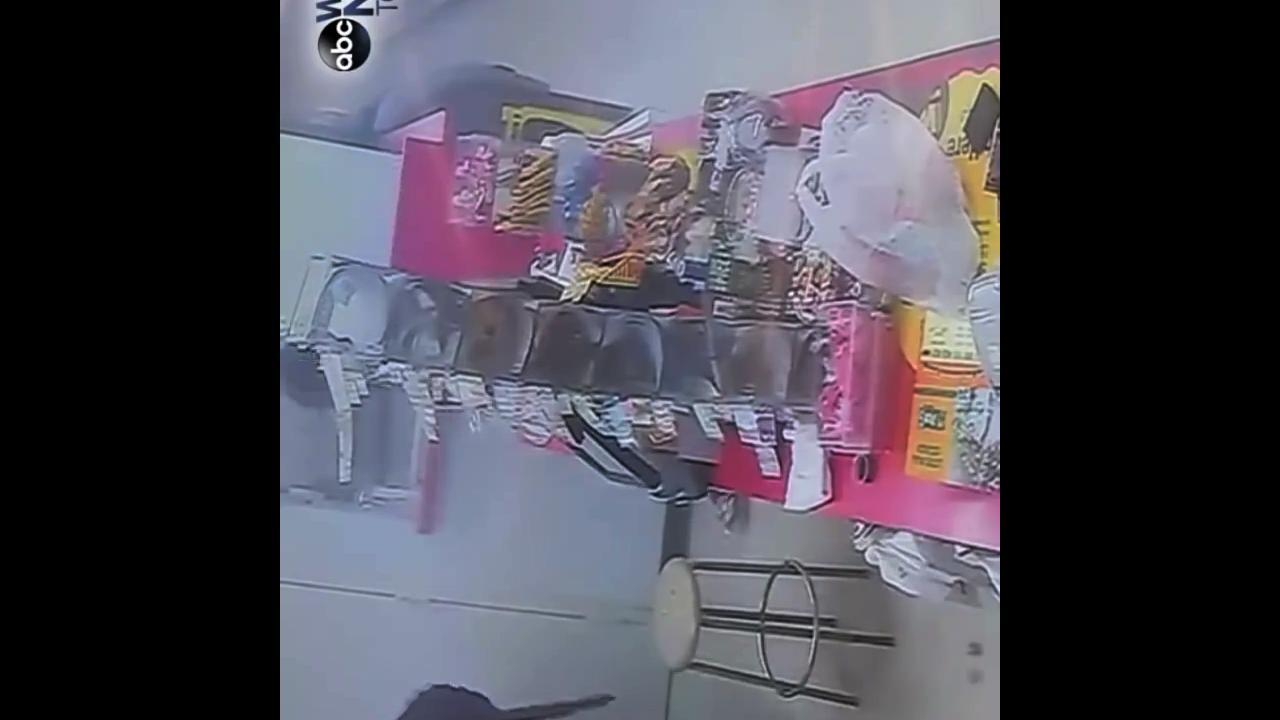gun: (485, 692, 614, 720)
